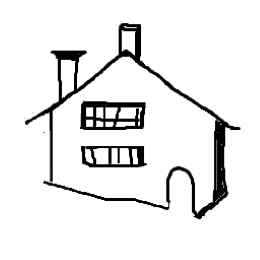chimney: (46, 35, 86, 99), (111, 15, 153, 65)
closed_window: (75, 96, 158, 135), (79, 138, 152, 170)
door: (162, 157, 200, 219)
single_line_roof: (23, 48, 242, 131)
wall: (41, 110, 234, 223)
